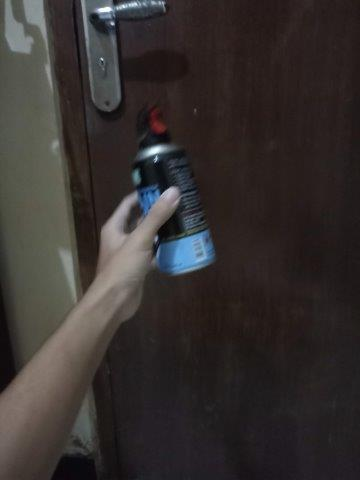kaleng: (132, 143, 216, 275)
